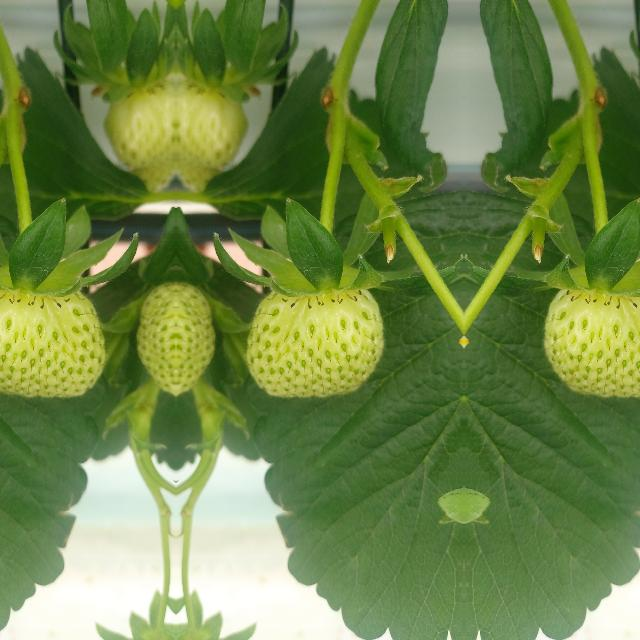Health_25: (245, 289, 382, 397), (0, 289, 104, 397), (543, 289, 640, 397)
